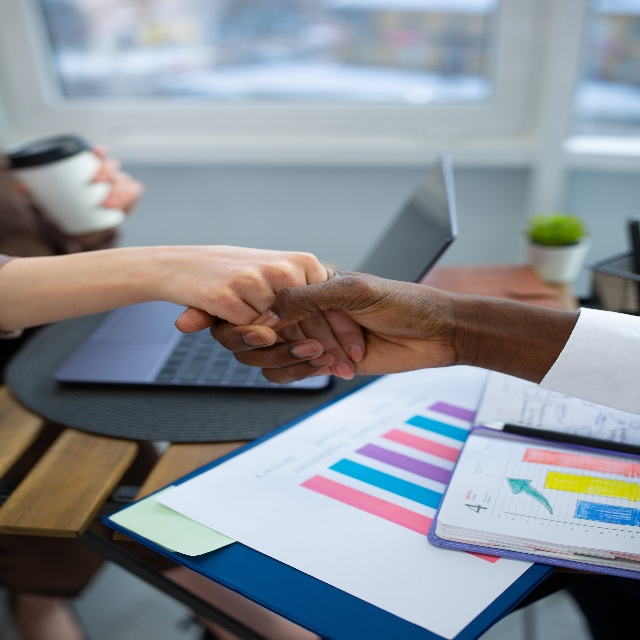Sin_guantes: (175, 271, 458, 385), (180, 244, 365, 380)
